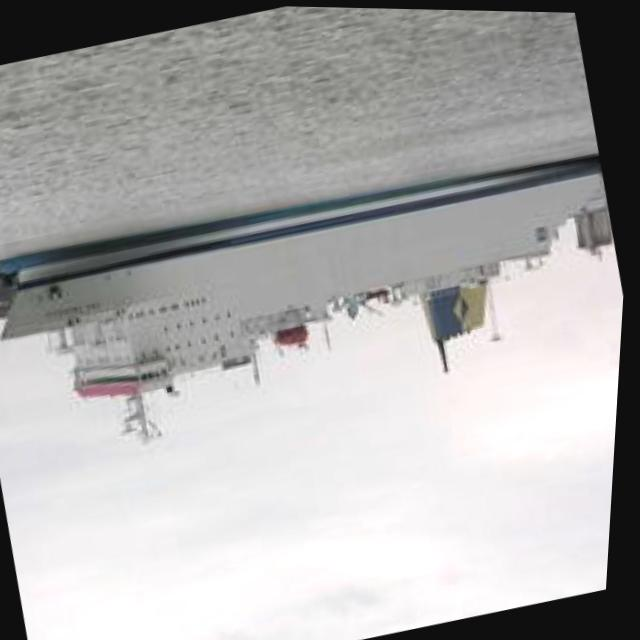ship2: (0, 153, 610, 444)
